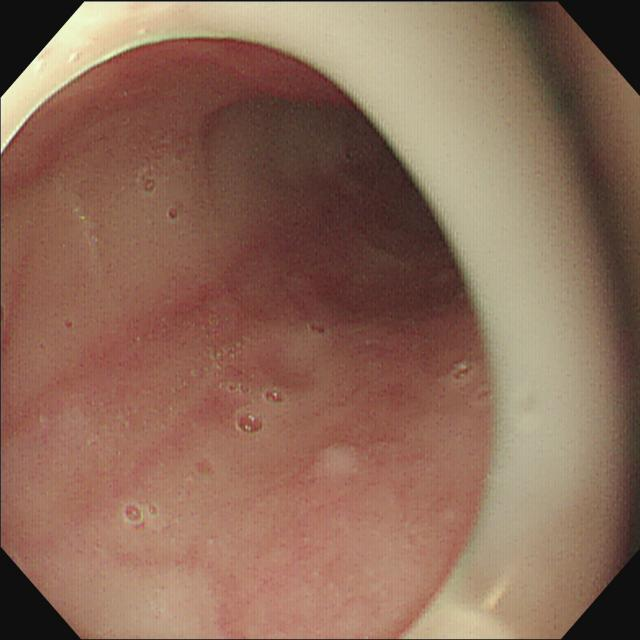J: (306, 435, 373, 486)
T: (210, 340, 283, 439), (141, 134, 187, 224), (450, 356, 496, 413), (122, 497, 158, 536)
